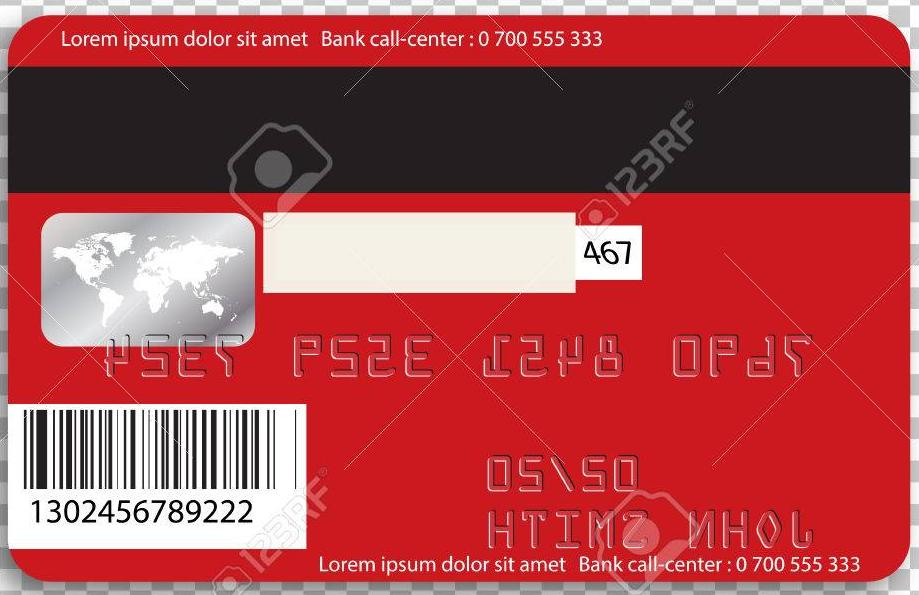payment_card: (11, 12, 912, 584)
